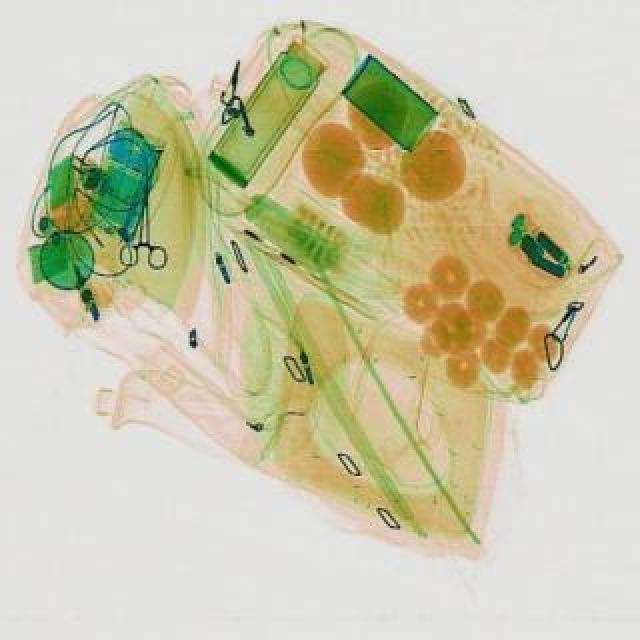pliers: (118, 182, 170, 274)
